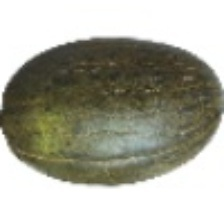honeydew: (40, 31, 215, 224)
